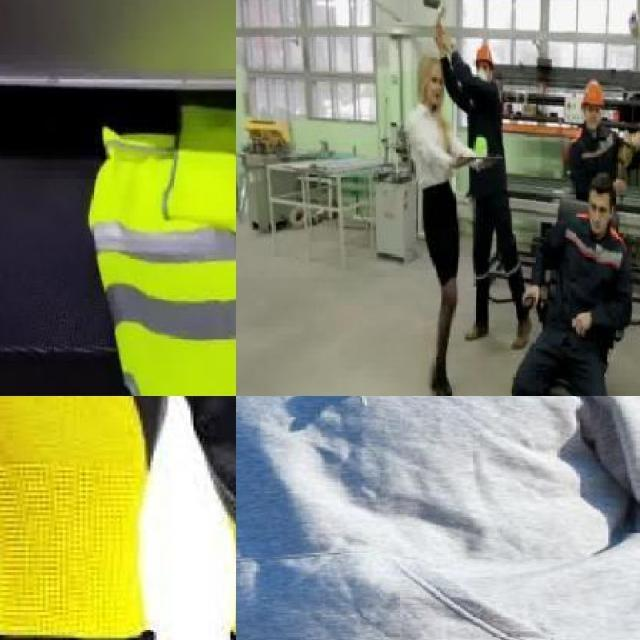apron: (0, 396, 175, 640), (168, 396, 236, 640)
